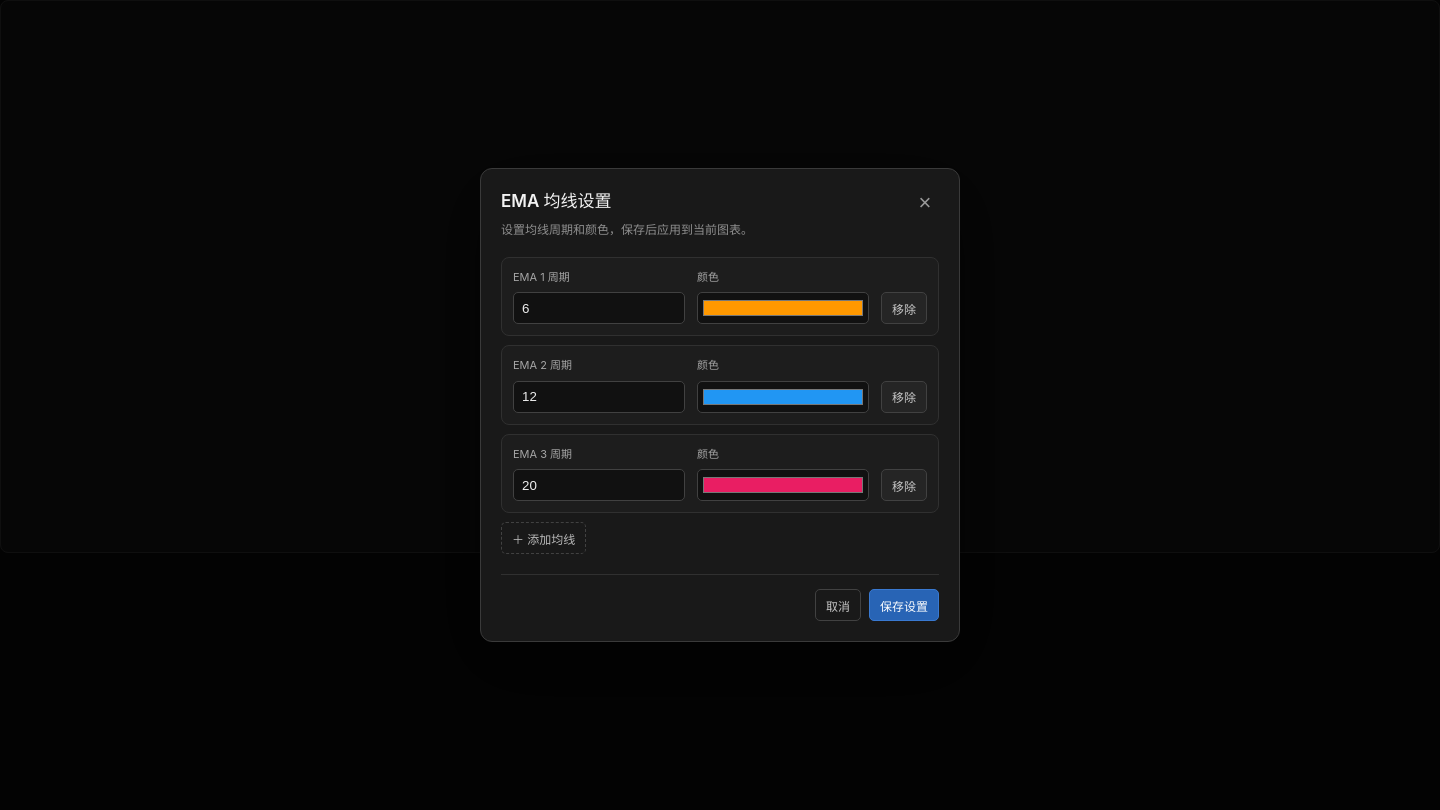
Test case: SimpleChart Pro integration › keeps EMA settings open and shows validation feedback for invalid periods
The image size is (1440, 810).
Replace the text in the field named "EMA 第 1 条周期" with "0" at x=599, y=308, box x1=513 y1=292 x2=685 y2=324
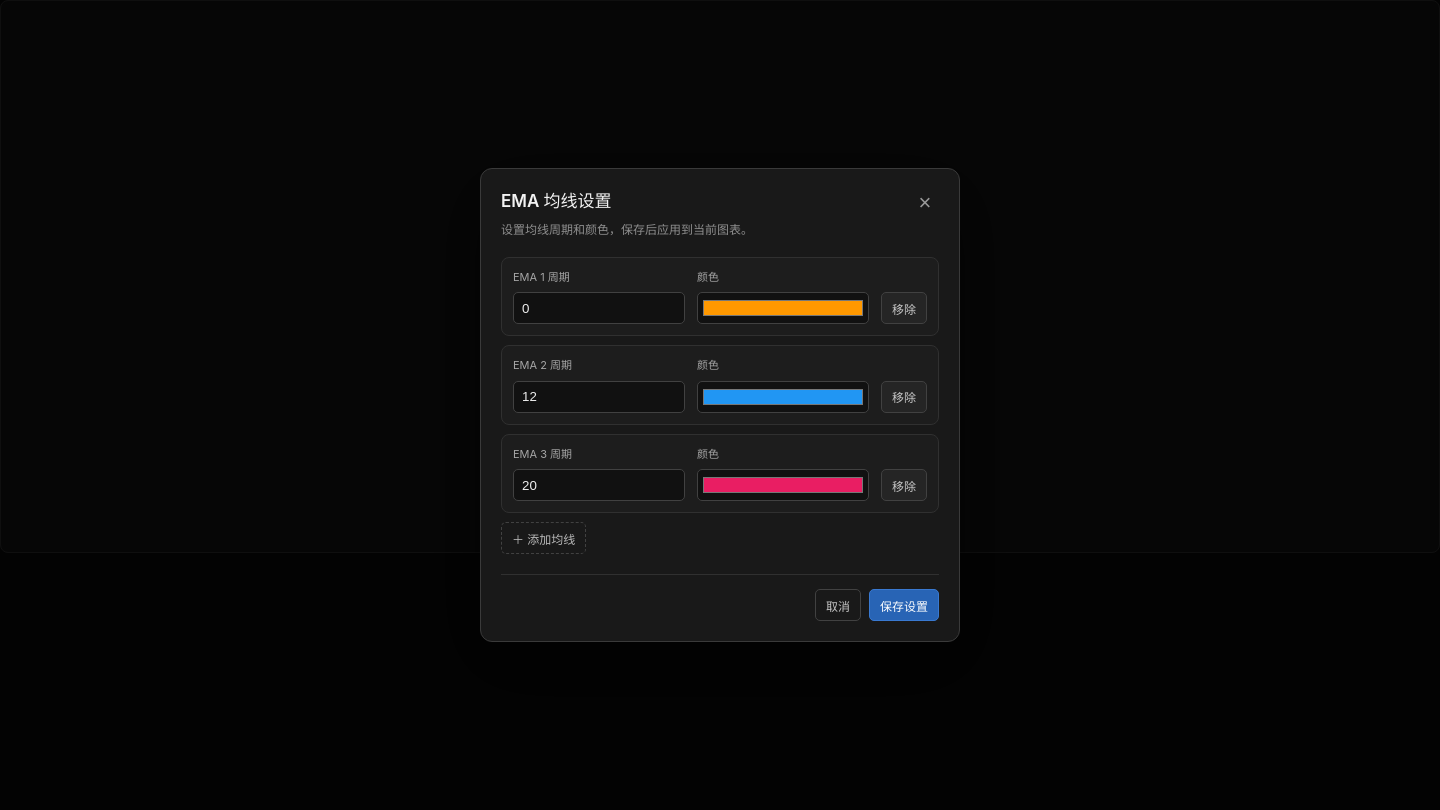
Click the button with aria-label "保存 EMA 设置" at x=904, y=605, box x1=869 y1=589 x2=939 y2=621
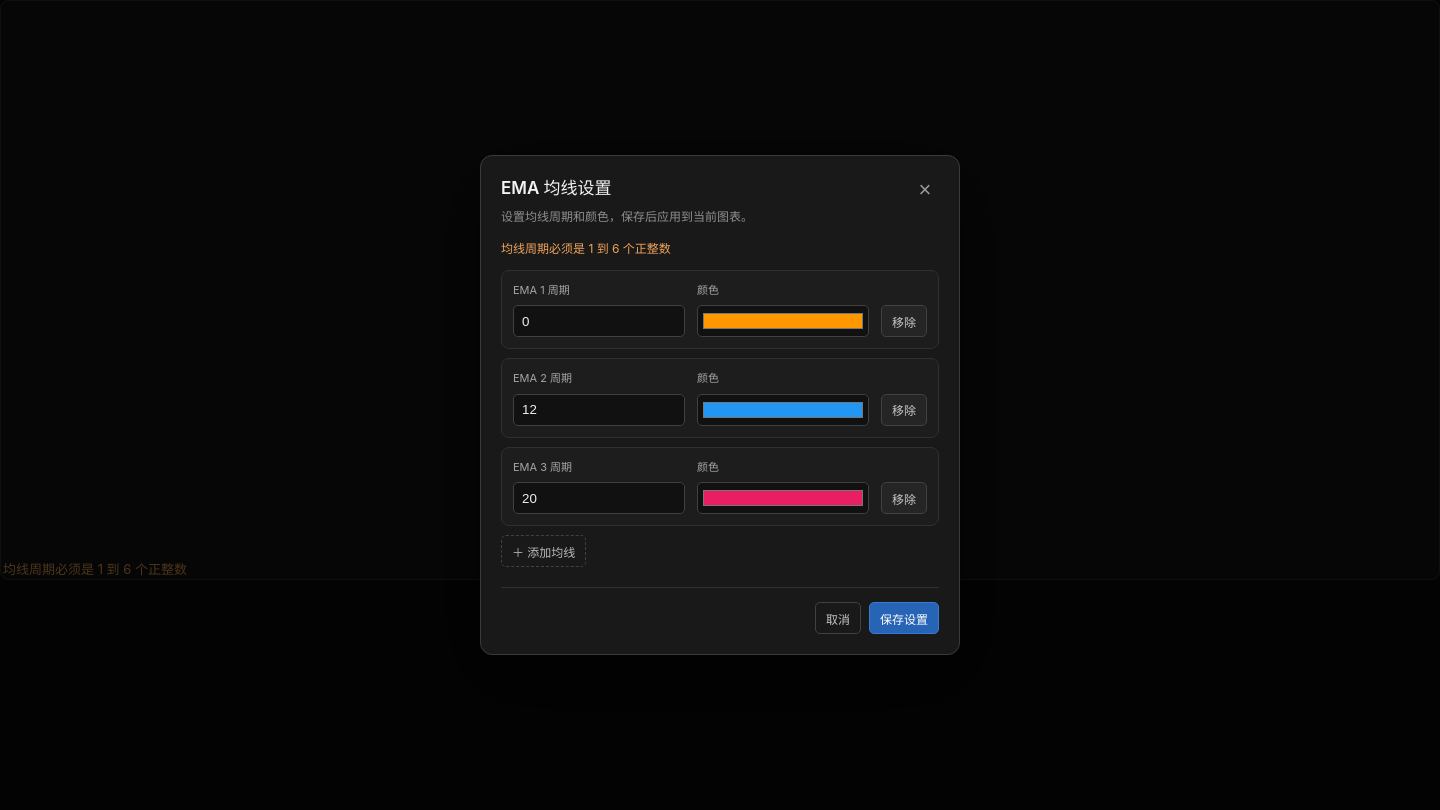
expect the dialog is shown: met, box x1=480 y1=155 x2=960 y2=655
expect the message "均线周期必须是 1 到 6 个正整数" below "设置均线周期和颜色，保存后应用到当前图表。" is shown: met, box x1=501 y1=240 x2=671 y2=256
